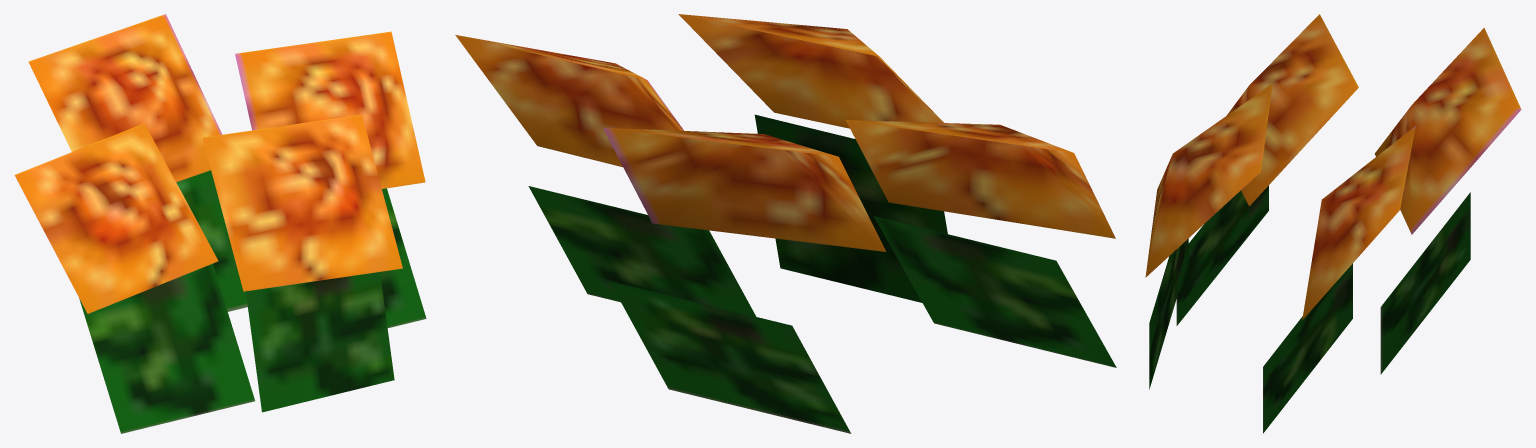
File: flw_rose_or.dae
The picture shows the model from 3 angles, left to right: view 1: azimuth 30°, elevation 25°; view 2: azimuth 150°, elevation 25°; view 3: azimuth 270°, elevation 25°; orthographic projection. The views are drawn at different scales.
Parts seen in each view (by area): view 1: flw_rose_or; view 2: flw_rose_or; view 3: flw_rose_or.
Part boxes in pixels (x1,y1,x2,y2): flw_rose_or: (14, 14, 426, 433); flw_rose_or: (455, 14, 1116, 433); flw_rose_or: (1145, 14, 1521, 433).
Bounding box in the file's own units: 33.43 × 19.21 × 25.27.
Materials: 1 (1 with a texture image).
